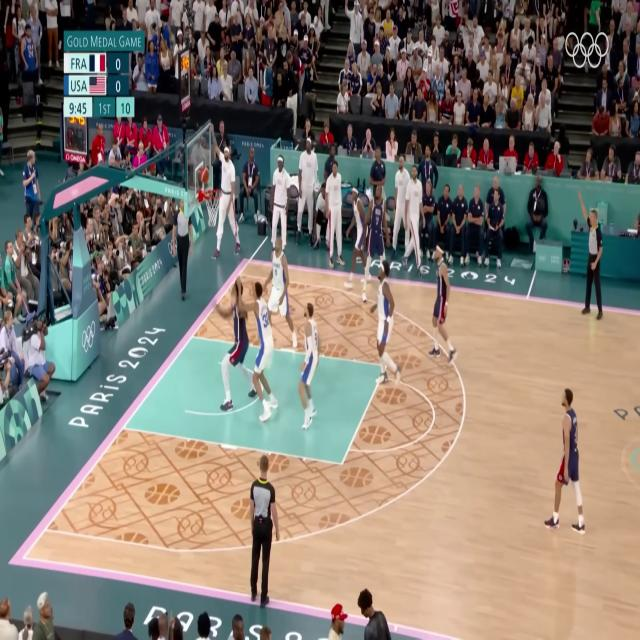player: (239, 272, 279, 446), (286, 286, 326, 428), (209, 268, 248, 406), (426, 240, 466, 371), (558, 382, 589, 551), (368, 256, 399, 391), (260, 242, 296, 357), (340, 183, 373, 297), (366, 182, 389, 282)
